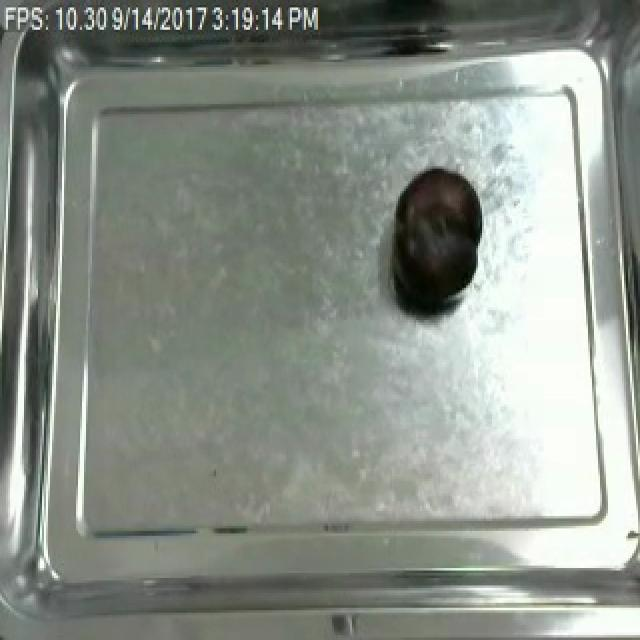Fruit: (386, 164, 486, 318)
